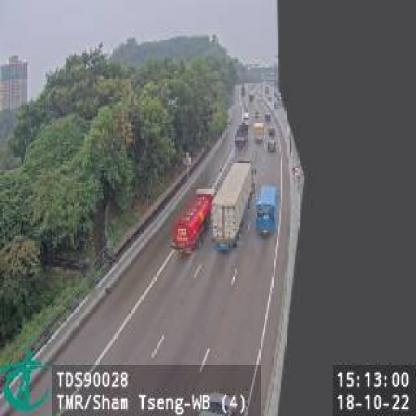Bus: (256, 184, 279, 237)
Car: (266, 139, 276, 154), (268, 126, 277, 138)
Truck: (212, 162, 254, 247), (169, 186, 217, 253), (233, 123, 249, 150), (253, 122, 265, 145)
